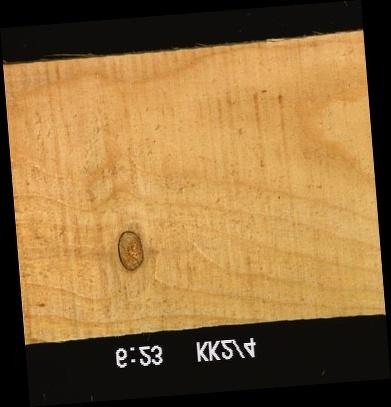dry_knot: (116, 229, 145, 272)
